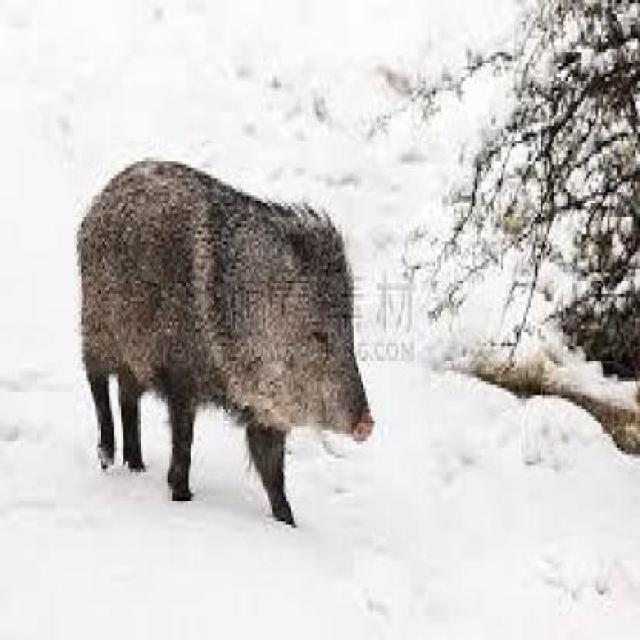wildboar: (60, 144, 382, 538)
